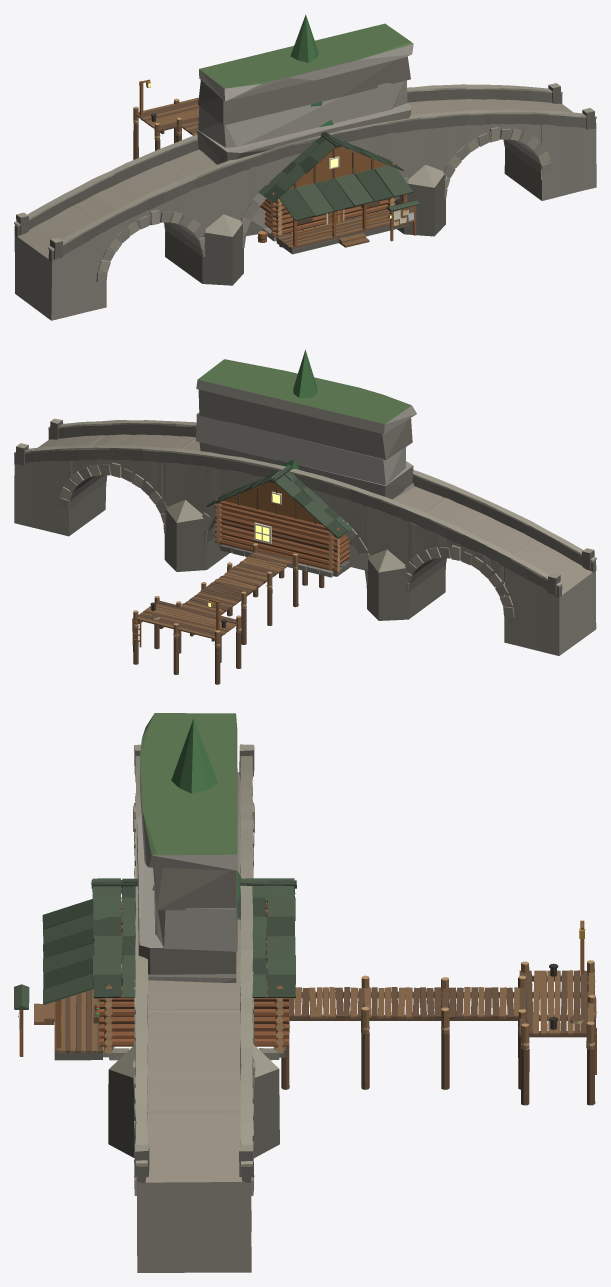
The model's file is env.glb.
3 views of the same model, one above another, from view 1: azimuth 30°, elevation 25°; view 2: azimuth 150°, elevation 25°; view 3: azimuth 270°, elevation 25° (orthographic). The views are drawn at different scales.
Parts seen in each view (by area): view 1: bridge, cliff, cabin, dock, pine_tall, noticeboard; view 2: bridge, cliff, cabin, dock, pine_tall; view 3: bridge, cliff, cabin, dock, pine_tall.
Part boxes in pixels (<box>): bridge: <box>14,83,596,320</box>; cliff: <box>197,23,413,236</box>; cabin: <box>251,131,413,254</box>; dock: <box>133,79,281,247</box>; pine_tall: <box>290,14,333,127</box>; noticeboard: <box>386,200,419,241</box>; bridge: <box>14,418,596,655</box>; cliff: <box>196,359,416,570</box>; cabin: <box>206,464,352,577</box>; dock: <box>132,543,324,684</box>; pine_tall: <box>280,349,317,469</box>; bridge: <box>108,744,279,1272</box>; cliff: <box>137,713,237,982</box>; cabin: <box>34,878,296,1060</box>; dock: <box>281,920,596,1105</box>; pine_tall: <box>152,719,241,901</box>.
Bounding box in the file's own units: 34.03 × 14.02 × 20.43.
